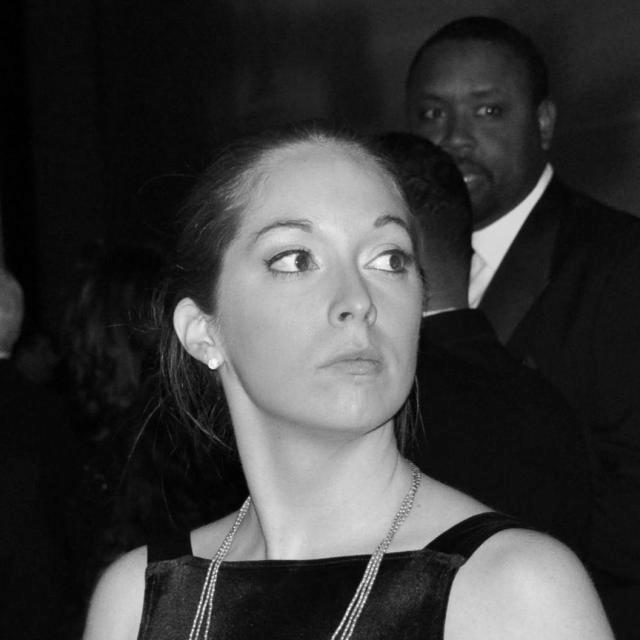real: (227, 180, 425, 434), (415, 60, 535, 211), (256, 233, 420, 300), (419, 92, 513, 129)
